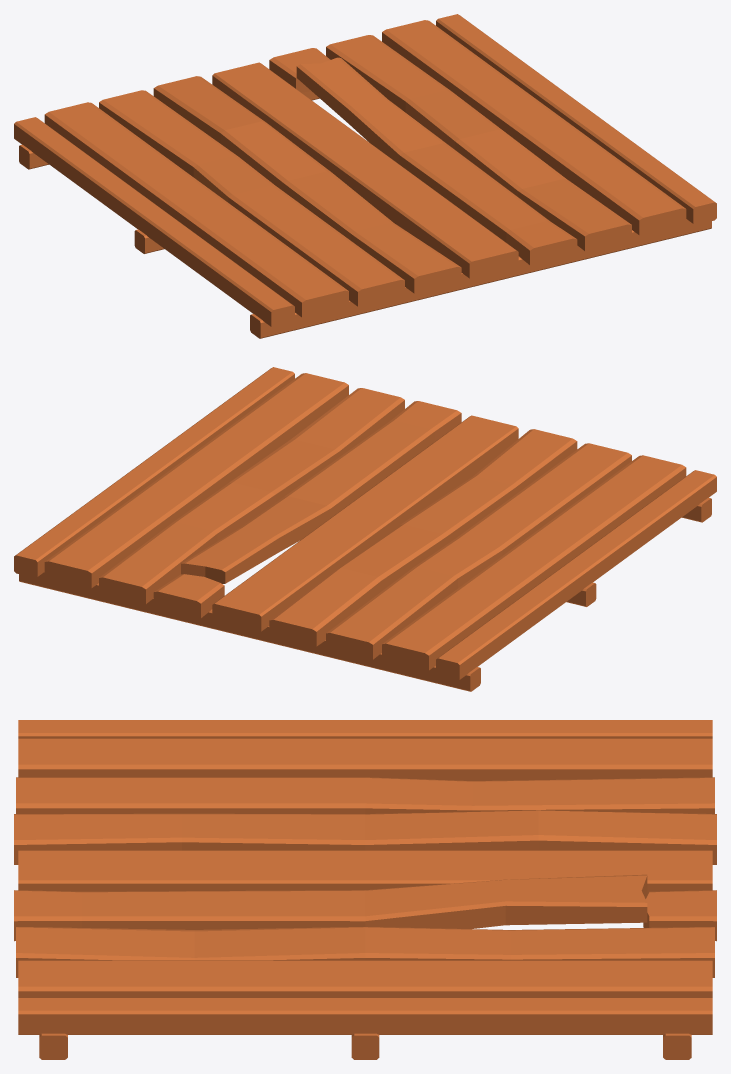
The model's file is Wood Floor 3.glb.
The picture shows the model from 3 angles, top to bottom: view 1: azimuth 30°, elevation 25°; view 2: azimuth 150°, elevation 25°; view 3: azimuth 270°, elevation 25°; orthographic projection. The views are drawn at different scales.
Visible parts, largest first — view 1: WoodFloor4; view 2: WoodFloor4; view 3: WoodFloor4.
Boxes of the visible parts, x1,y1,x2,y2 form: WoodFloor4: (14, 14, 716, 338); WoodFloor4: (14, 367, 716, 691); WoodFloor4: (14, 720, 716, 1059).
Bounding box in the file's own units: 2 × 0.194 × 2.
